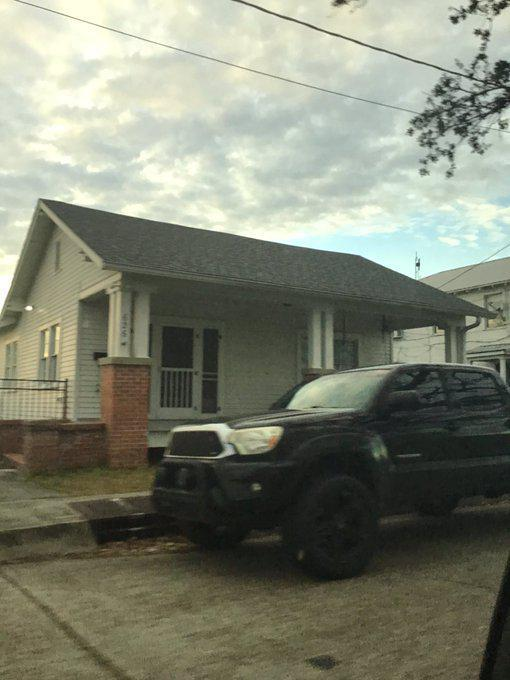affected: (5, 189, 497, 521)
